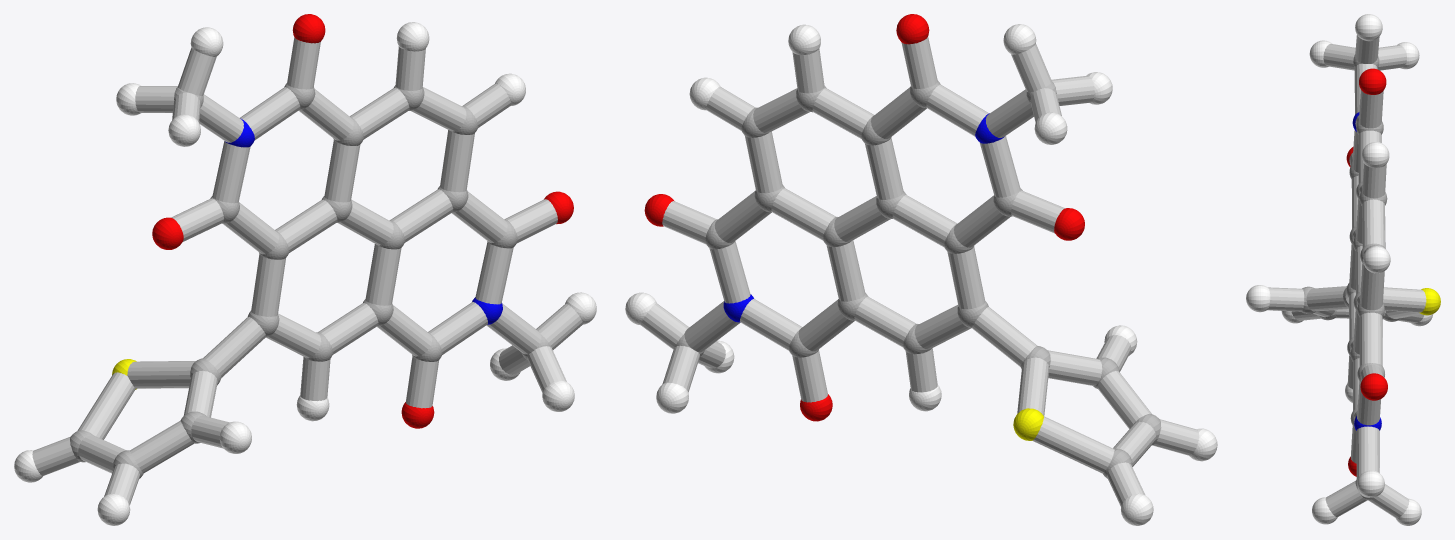
File: Dimethyl_Naphthalene_Dicarboximide_Phi_0_Theta_270_Thiophene.glb
3 renders of one model, left to right at view 1: azimuth 30°, elevation 25°; view 2: azimuth 150°, elevation 25°; view 3: azimuth 270°, elevation 25°, orthographic. The views are drawn at different scales.
Visible parts, largest first — view 1: grp14119, grp7241, grp1, grp12309, grp11585; view 2: grp14119, grp7241, grp1, grp12309, grp13757, grp11585; view 3: grp14119, grp7241, grp1, grp12309, grp13757.
Boxes of the visible parts, x1,y1,x2,y2 form: grp14119: [32, 37, 582, 505]; grp7241: [14, 22, 596, 525]; grp1: [70, 83, 551, 478]; grp12309: [152, 14, 573, 428]; grp11585: [225, 118, 502, 324]; grp14119: [640, 36, 1199, 506]; grp7241: [625, 24, 1217, 525]; grp1: [675, 80, 1161, 478]; grp12309: [644, 14, 1084, 421]; grp13757: [1013, 408, 1043, 440]; grp11585: [723, 113, 1004, 322]; grp14119: [1267, 35, 1426, 518]; grp7241: [1246, 14, 1433, 525]; grp1: [1301, 54, 1400, 500]; grp12309: [1346, 68, 1387, 476]; grp13757: [1419, 288, 1440, 315].
Bounding box in the file's own units: 11.64 × 9.03 × 4.23.
